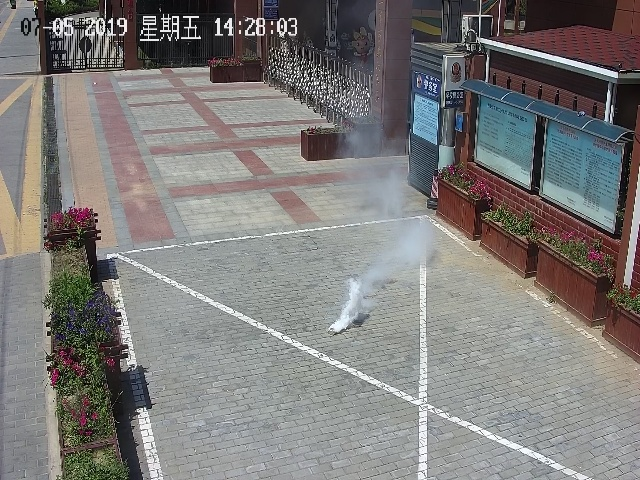yanwu: (361, 169, 437, 284), (313, 268, 368, 337)
